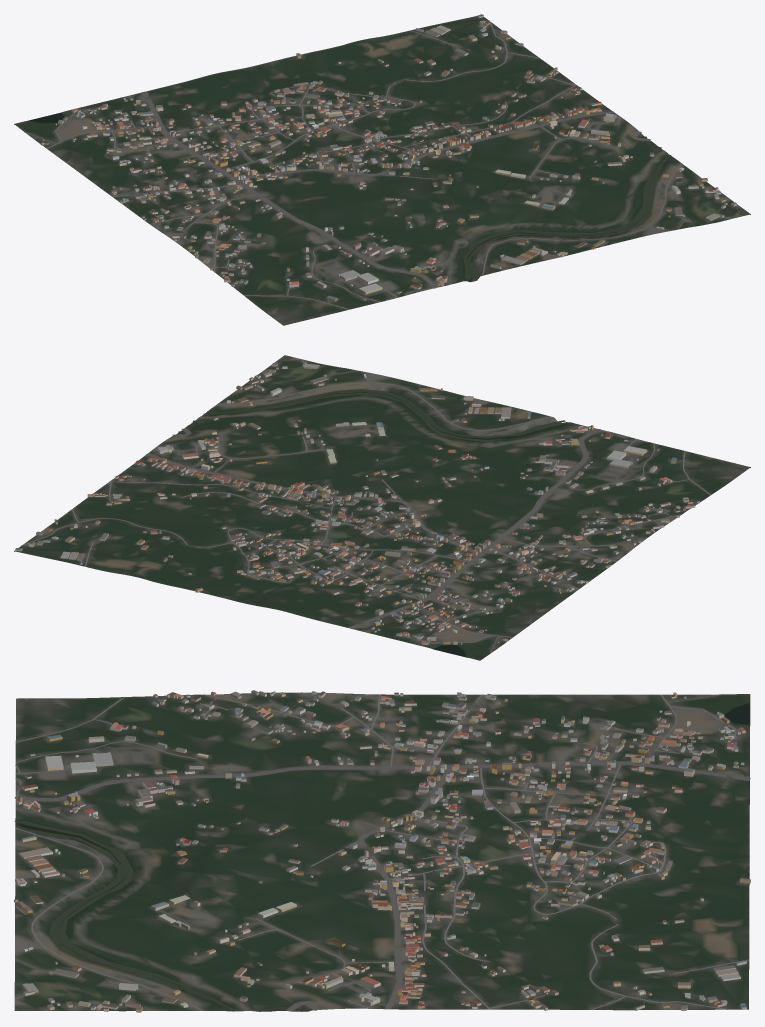
3 views of the same model, one above another, from view 1: azimuth 30°, elevation 25°; view 2: azimuth 150°, elevation 25°; view 3: azimuth 270°, elevation 25° (orthographic). The views are drawn at different scales.
Parts seen in each view (by area): view 1: ground, buildings, roads, water; view 2: ground, buildings, roads, water; view 3: ground, buildings, roads, water.
Part boxes in pixels (bbox=[...]): ground: bbox=[14, 16, 750, 325]; buildings: bbox=[40, 14, 736, 301]; roads: bbox=[24, 20, 732, 309]; water: bbox=[28, 112, 707, 281]; ground: bbox=[14, 355, 750, 660]; buildings: bbox=[15, 361, 699, 644]; roads: bbox=[21, 359, 710, 653]; water: bbox=[178, 373, 567, 656]; ground: bbox=[14, 692, 750, 1011]; buildings: bbox=[14, 690, 750, 1012]; roads: bbox=[14, 692, 750, 1011]; water: bbox=[14, 703, 749, 1011].
Size of the model in its own units: 1411 by 31.92 by 1407.
